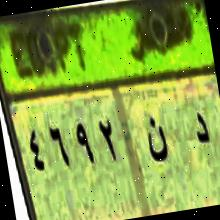2: (92, 115, 124, 172)
4: (24, 120, 51, 194)
6: (45, 118, 74, 182)
9: (70, 112, 100, 178)
daal: (184, 102, 212, 156)
noon: (137, 111, 174, 172)
